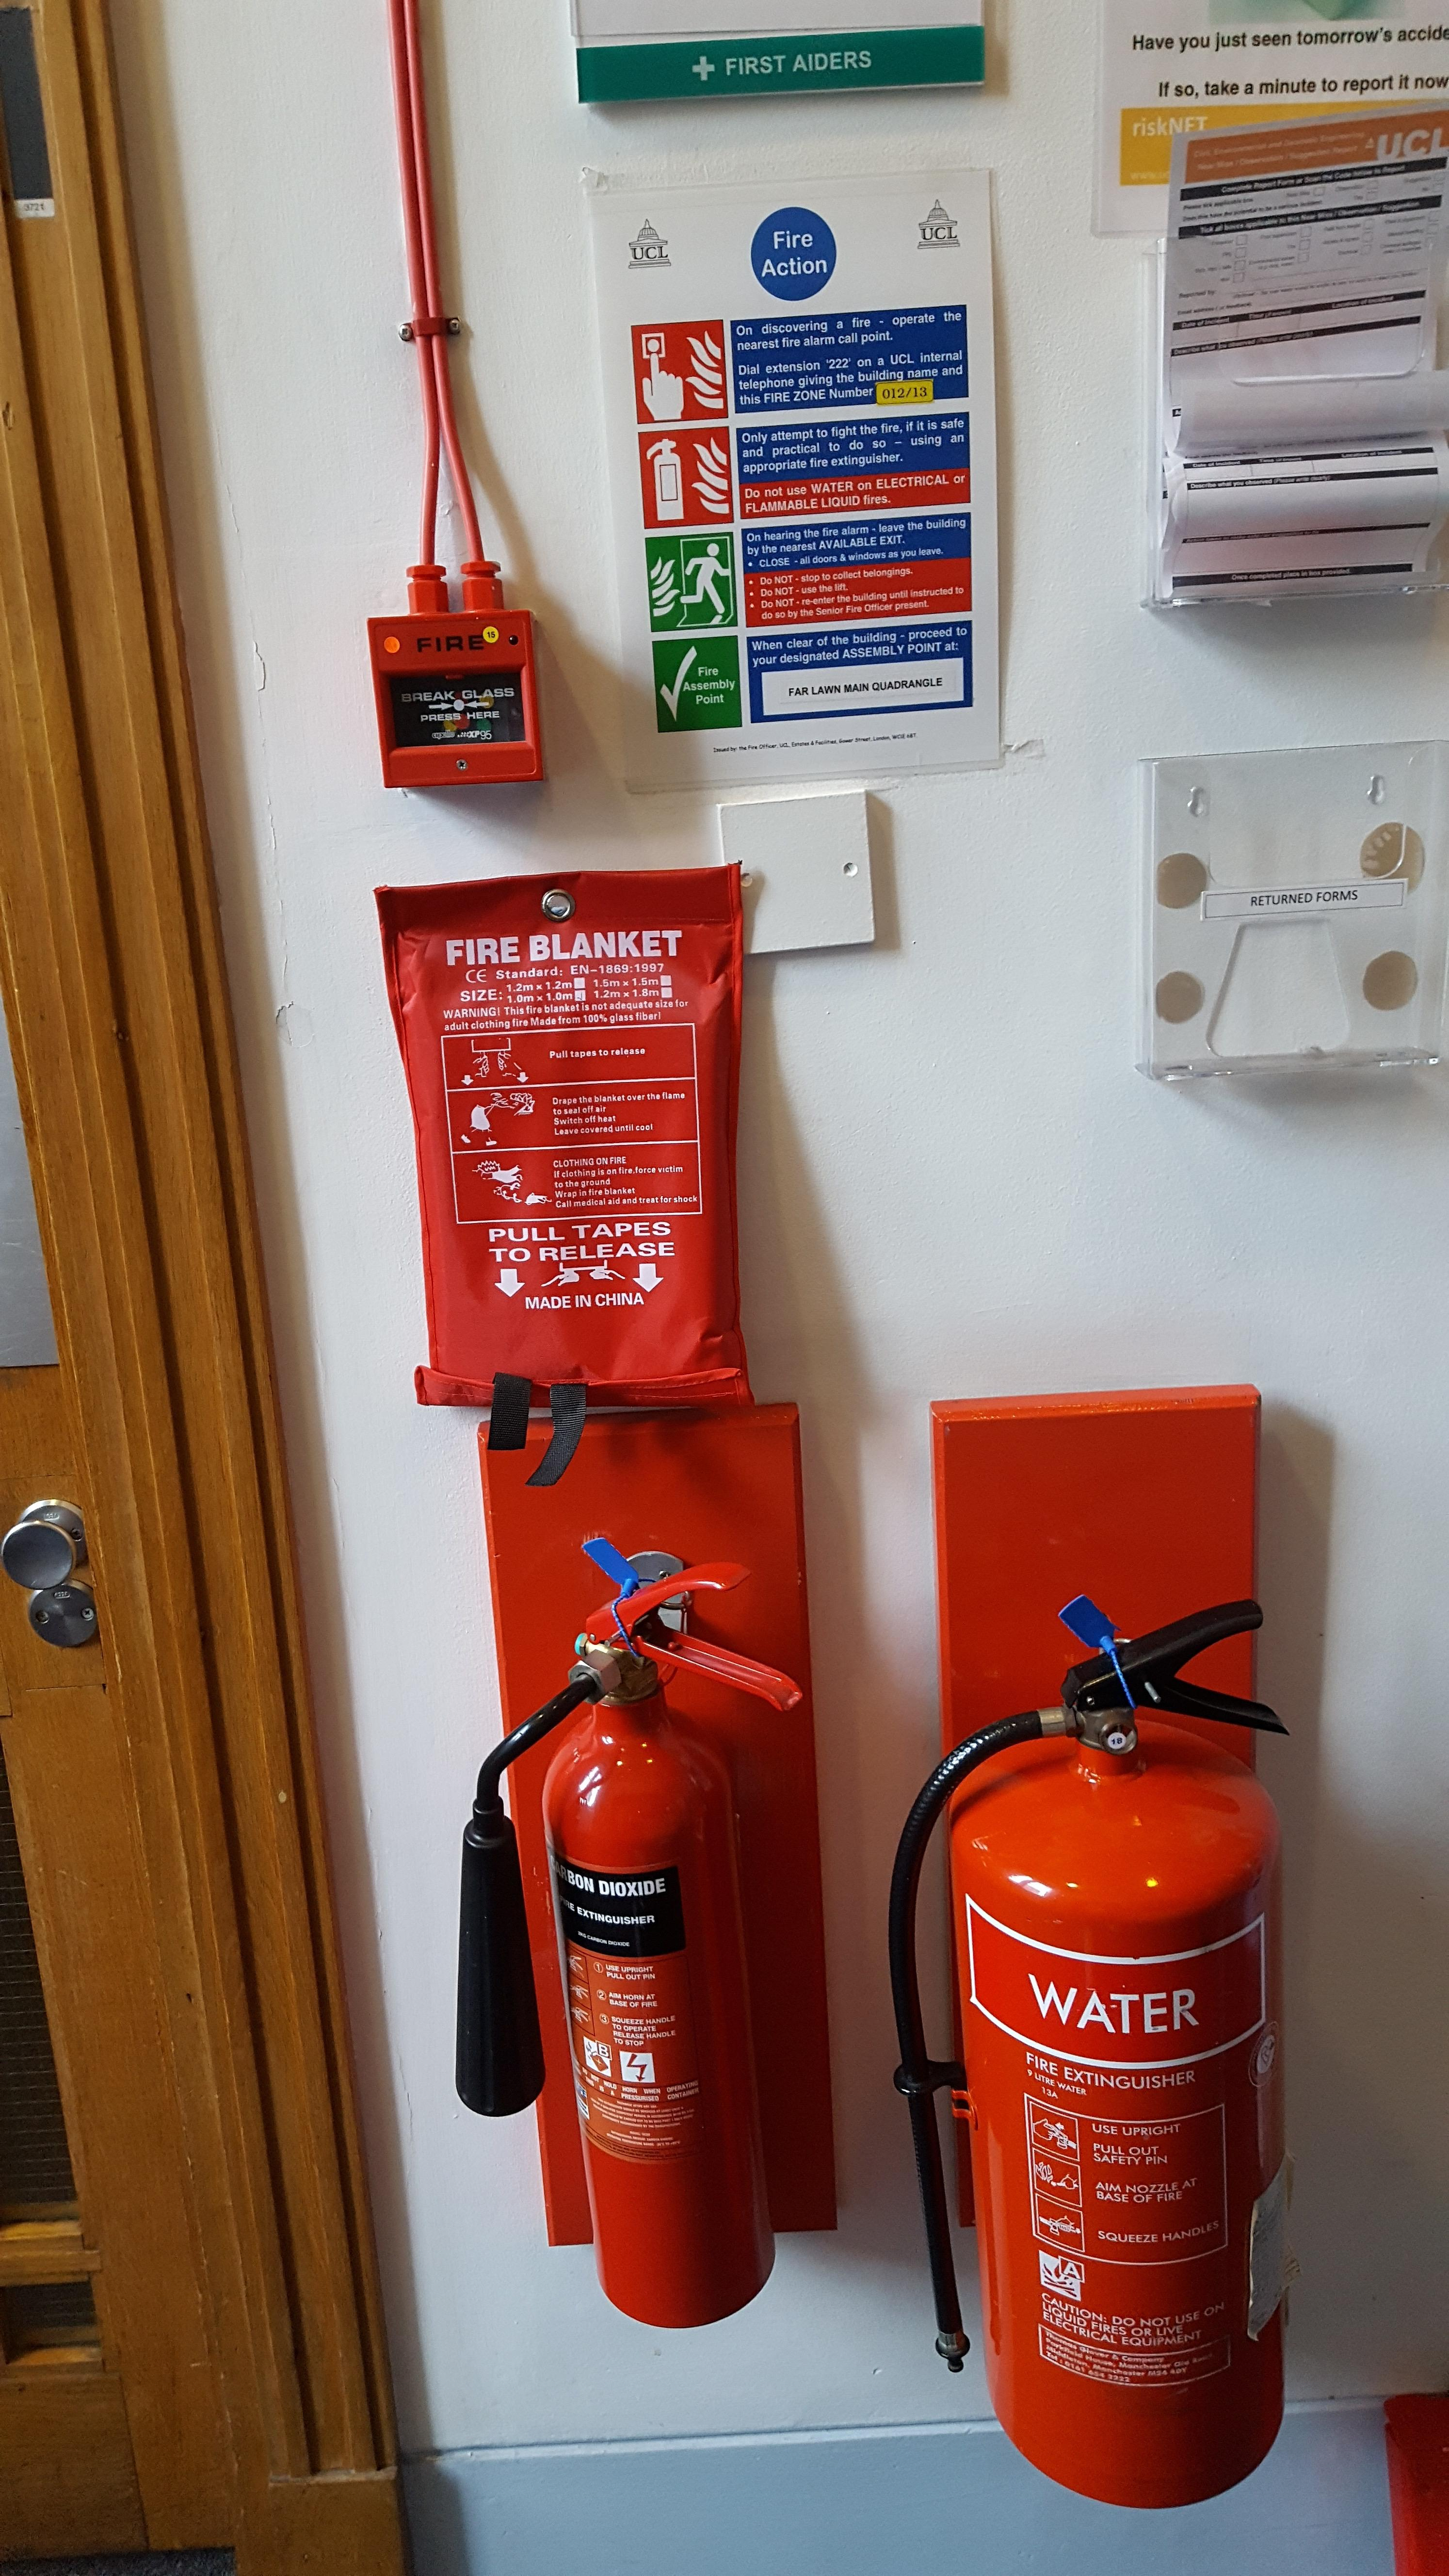blanket: (373, 860, 755, 1408)
call_point: (368, 612, 543, 787)
extinguisher: (888, 1599, 1292, 2509), (456, 1562, 805, 2328)
